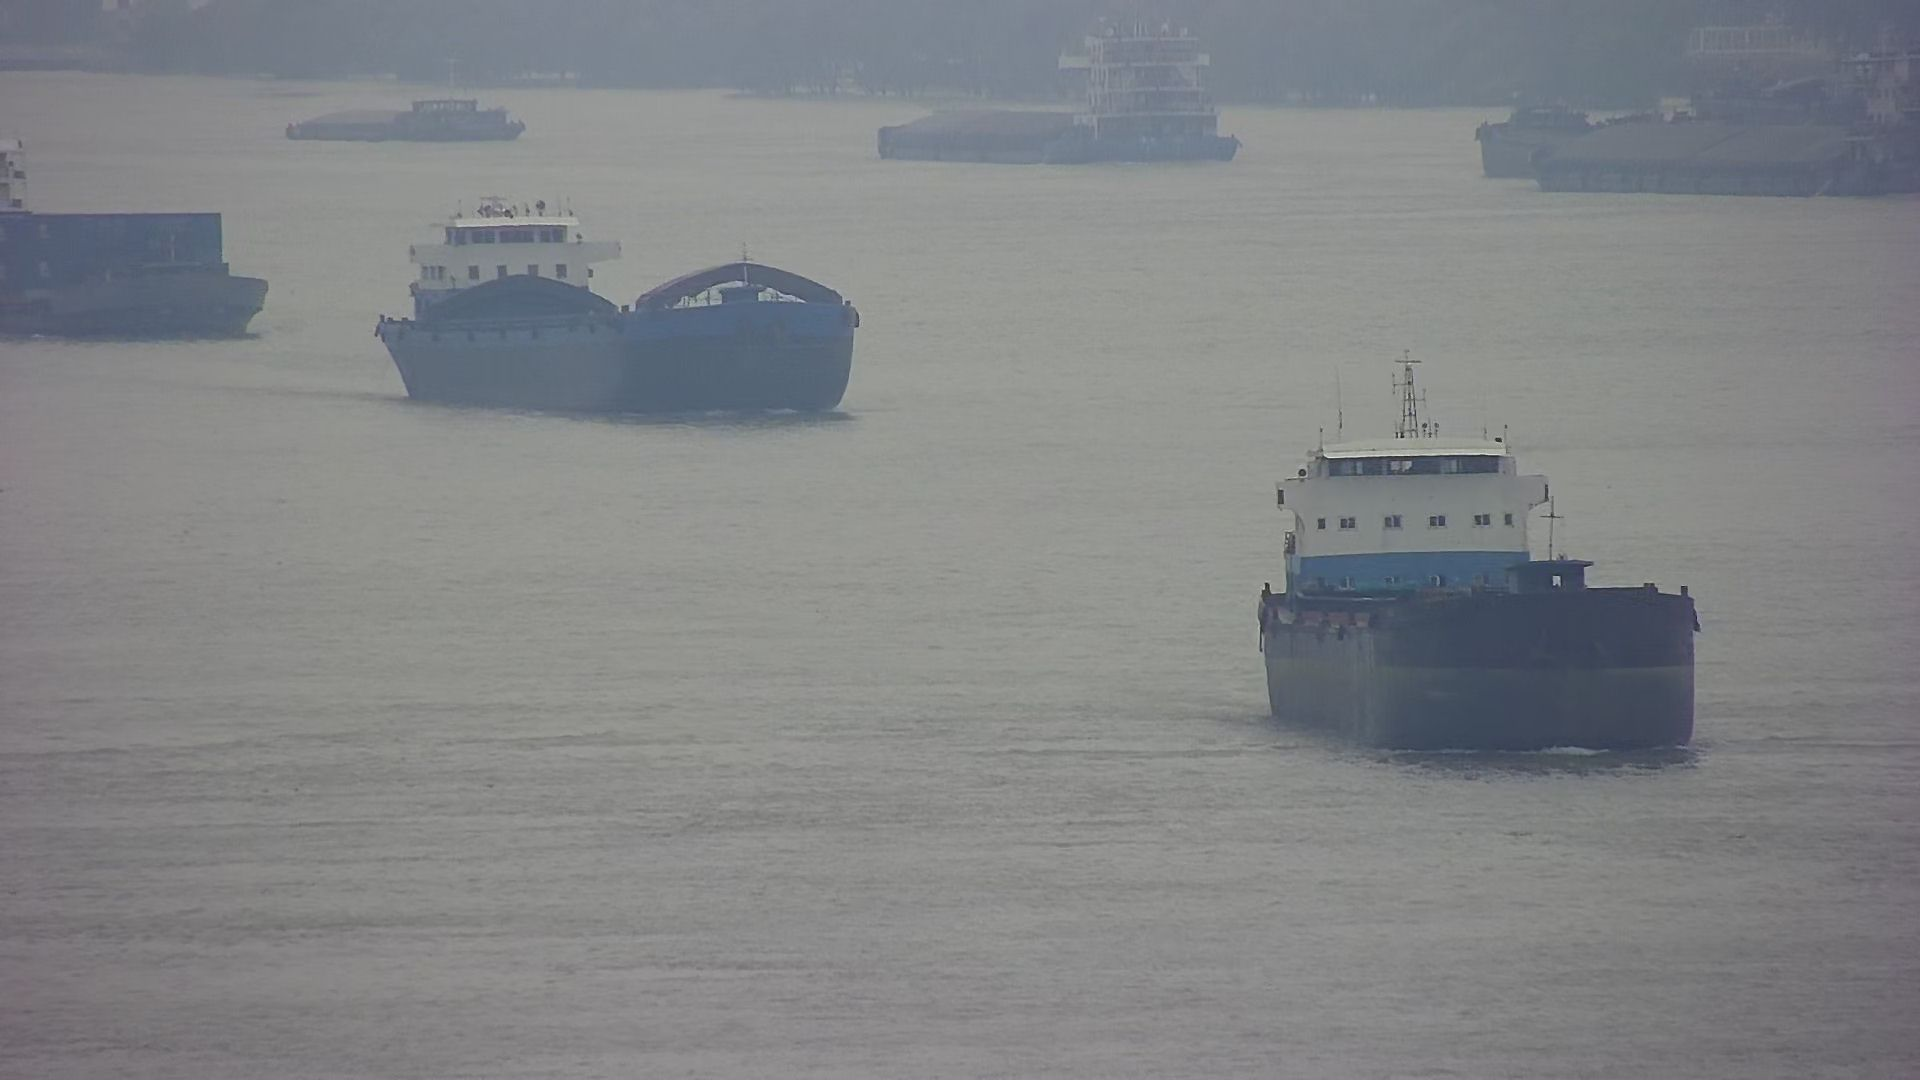ship: (1263, 359, 1706, 746), (373, 204, 862, 419), (1478, 28, 1920, 200), (1, 141, 262, 340), (877, 26, 1242, 167), (278, 96, 521, 140)
